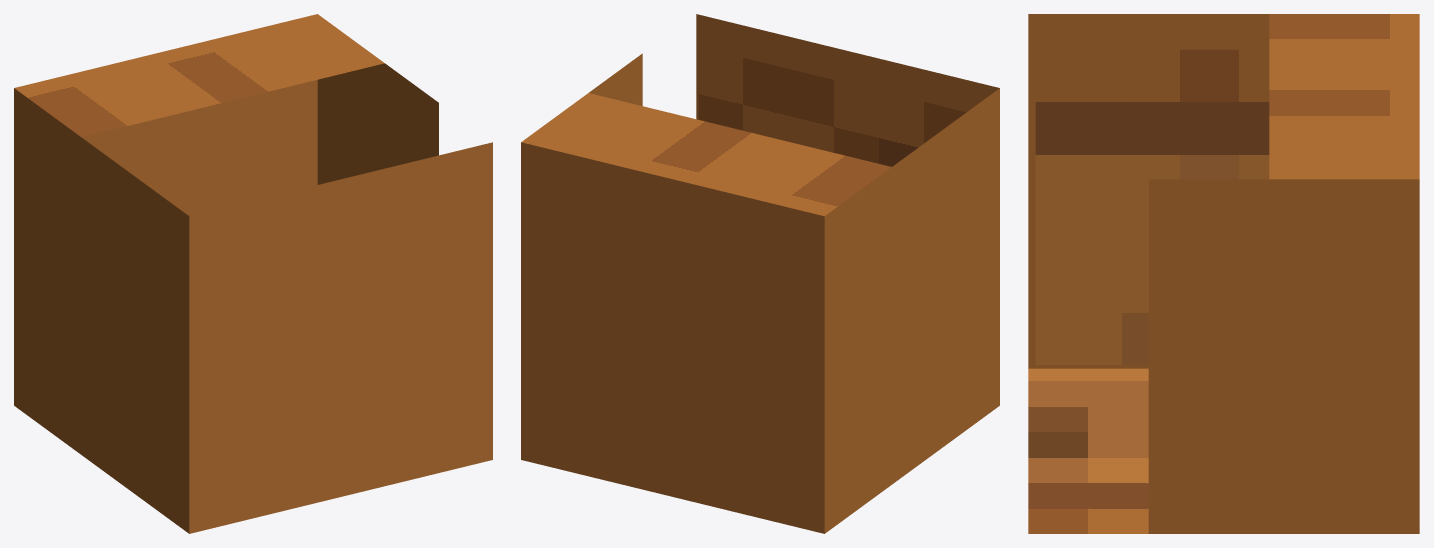
Rendered from Skull-named-nodes.gltf.
The picture shows the model from 3 angles, left to right: view 1: azimuth 30°, elevation 25°; view 2: azimuth 150°, elevation 25°; view 3: azimuth 270°, elevation 25°; orthographic projection. The views are drawn at different scales.
Parts seen in each view (by area): view 1: head layer; view 2: head layer, head; view 3: head layer, head.
Boxes of the visible parts, x1,y1,x2,y2 form: head layer: (14, 14, 492, 533); head layer: (521, 14, 999, 533); head: (698, 47, 966, 166); head layer: (1028, 14, 1419, 533); head: (1035, 49, 1269, 364).
Size of the model in its own units: 0.8438 by 0.8438 by 0.8438.
